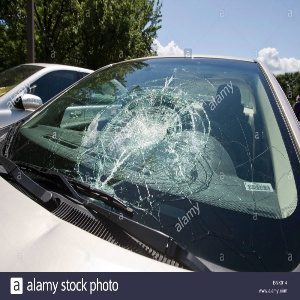front_windshield_glass: (67, 114, 252, 191)
